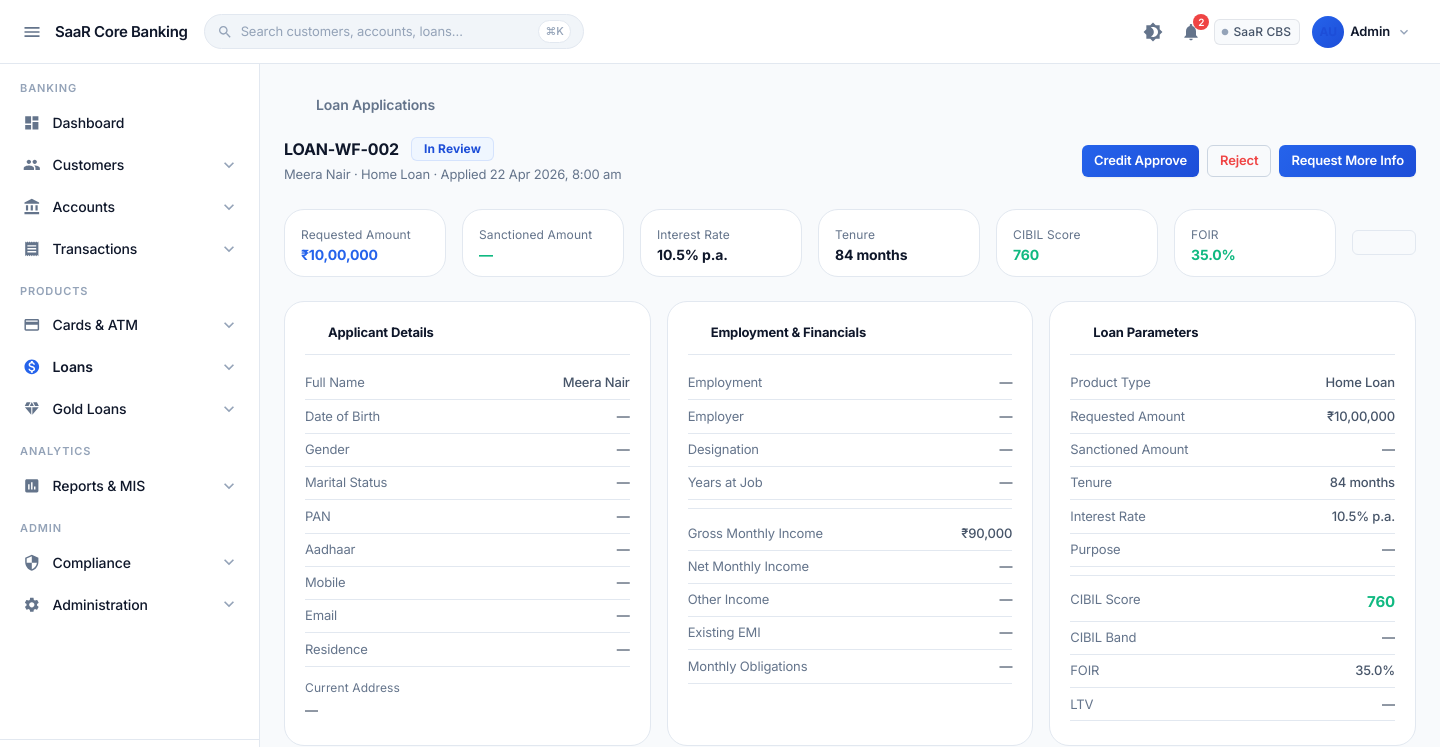
[REGRESSION] SAAR-WF-001 — Loan Actions with Approval Chain › chain refreshes after CREDIT_APPROVE action — shows updated APPROVED step
Note: Open action dialog and confirm
Click the button "Credit Approve" at (1141, 161), box [1082,145,1199,177]
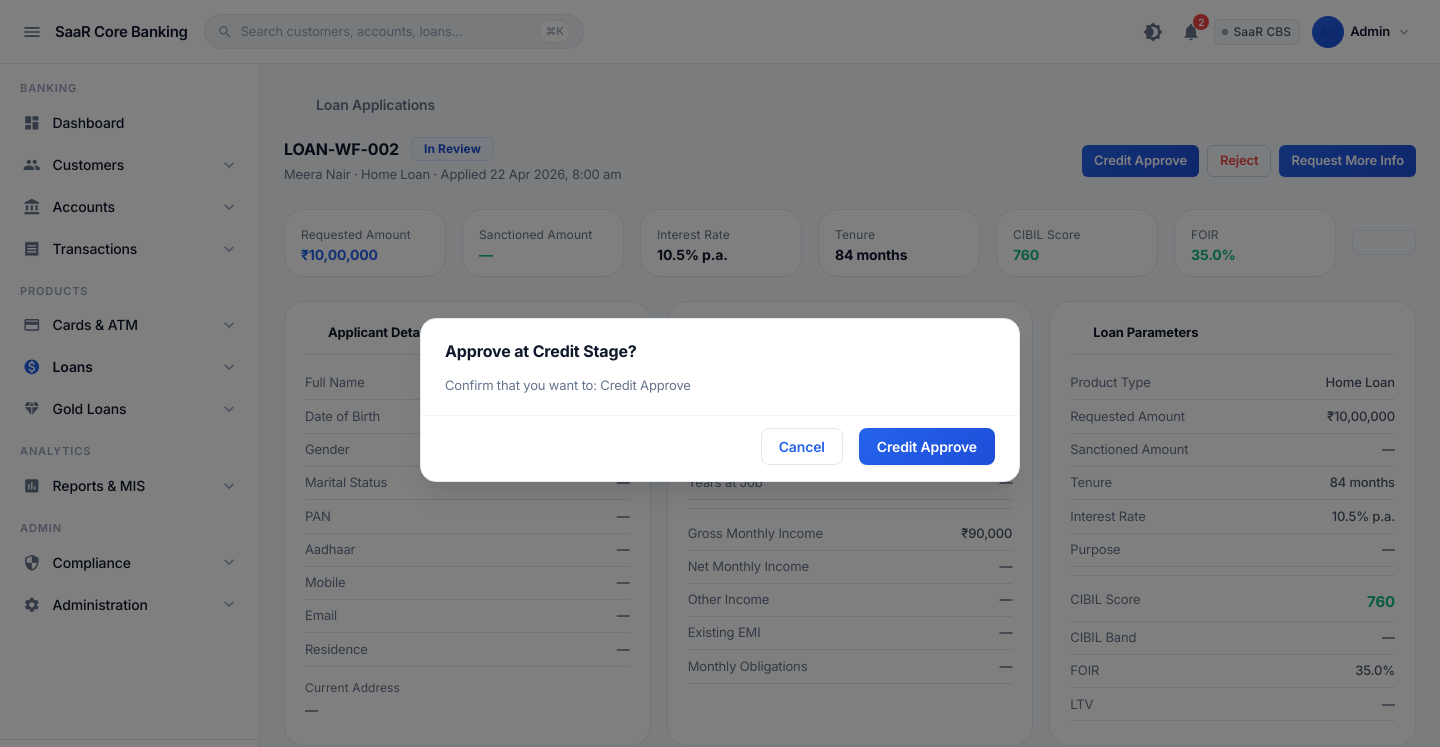
Check: the heading "Approve at Credit Stage?" is shown, box [445,341,637,361]
Click the button "Credit Approve" at (927, 447), box [859,428,995,465]
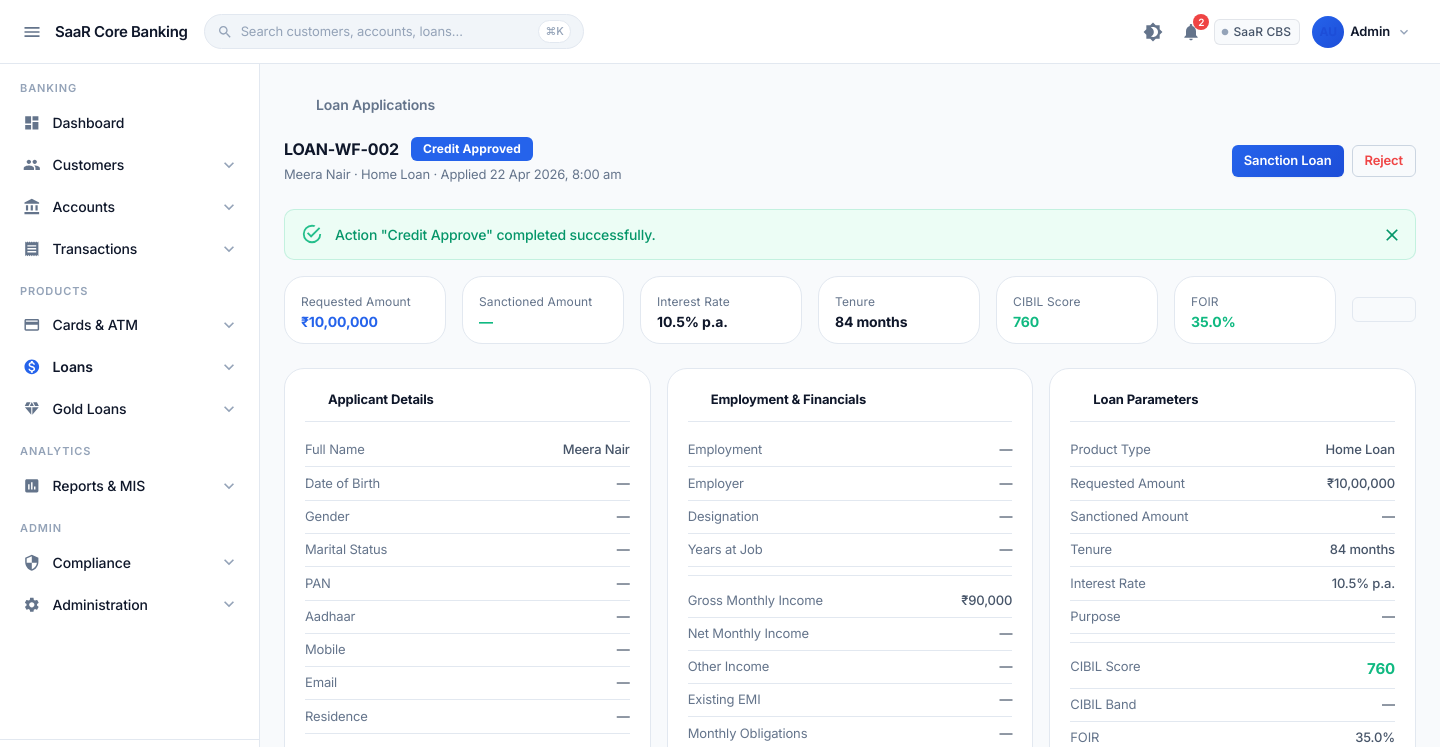
Check: the text "Credit Approved" is shown, box [423,141,521,156]
